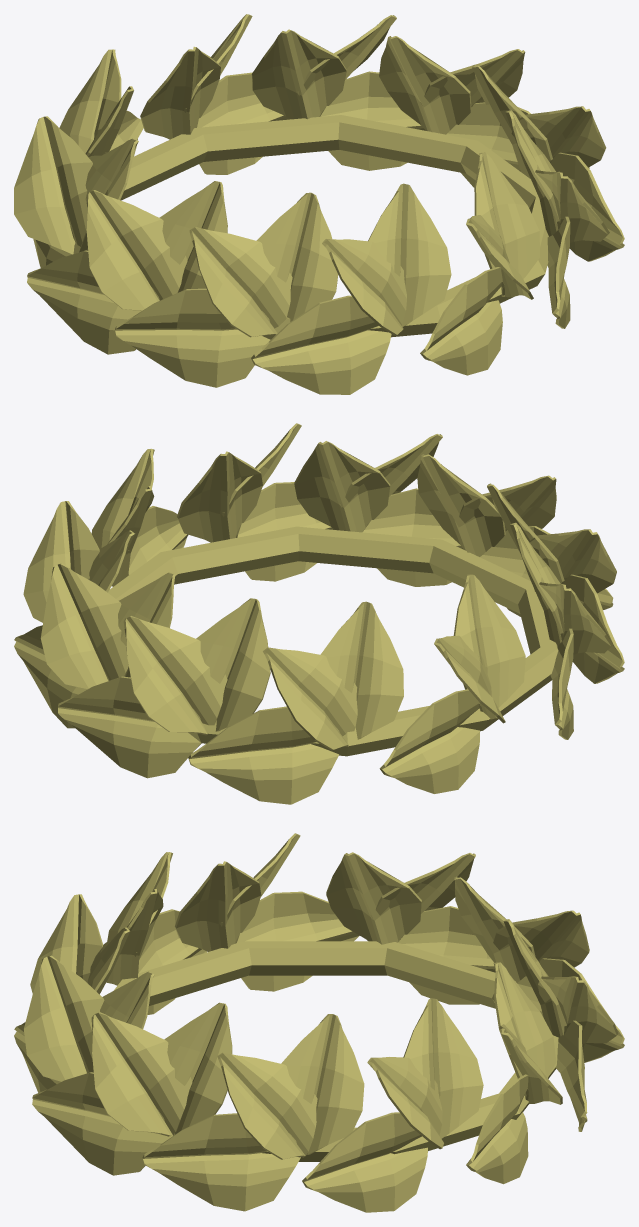
The model's file is tac.fbx.
3 views of the same model, one above another, from view 1: azimuth 30°, elevation 25°; view 2: azimuth 150°, elevation 25°; view 3: azimuth 270°, elevation 25° (orthographic).
Parts seen in each view (by area): view 1: Plane.011, Plane.010, Plane.005, Circle, Plane.009, Plane.004, Plane.002, Plane.006, Plane.003, Plane.007, Plane.008, Plane.001; view 2: Plane.003, Plane.001, Circle, Plane.002, Plane.004, Plane.009, Plane.008, Plane.010, Plane.011, Plane.005, Plane.007, Plane.006; view 3: Plane.007, Plane.008, Plane.006, Circle, Plane.002, Plane.005, Plane.009, Plane.004, Plane.001, Plane.003, Plane.011, Plane.010.
Boxes of the visible parts, x1,y1,x2,y2 form: Plane.011: (115,192,338,387); Plane.010: (251,183,451,394); Plane.005: (27,181,227,354); Circle: (73,115,548,339); Plane.009: (420,152,539,375); Plane.004: (251,15,425,170); Plane.002: (14,116,138,267); Plane.006: (379,36,589,187); Plane.003: (140,14,290,174); Plane.007: (472,64,624,261); Plane.008: (505,110,609,328); Plane.001: (59,49,143,160); Plane.003: (58,598,270,778); Plane.001: (188,601,403,804); Circle: (108,526,558,756); Plane.002: (379,574,525,793); Plane.004: (14,563,175,728); Plane.009: (294,434,463,586); Plane.008: (177,423,334,581); Plane.010: (417,454,613,616); Plane.011: (487,483,624,683); Plane.005: (510,522,613,739); Plane.007: (91,448,188,586); Plane.006: (23,501,134,622); Plane.007: (142,1014,364,1211); Plane.008: (32,1002,232,1175); Plane.006: (302,998,483,1212); Circle: (114,941,558,1161); Plane.002: (326,852,495,1004); Plane.005: (175,833,359,991); Plane.009: (14,955,154,1092); Plane.004: (466,962,562,1184); Plane.001: (454,876,624,1062); Plane.003: (503,919,618,1131); Plane.011: (106,852,206,1014); Plane.010: (30,894,130,994).
Size of the model in its own units: 745 by 228 by 744.
